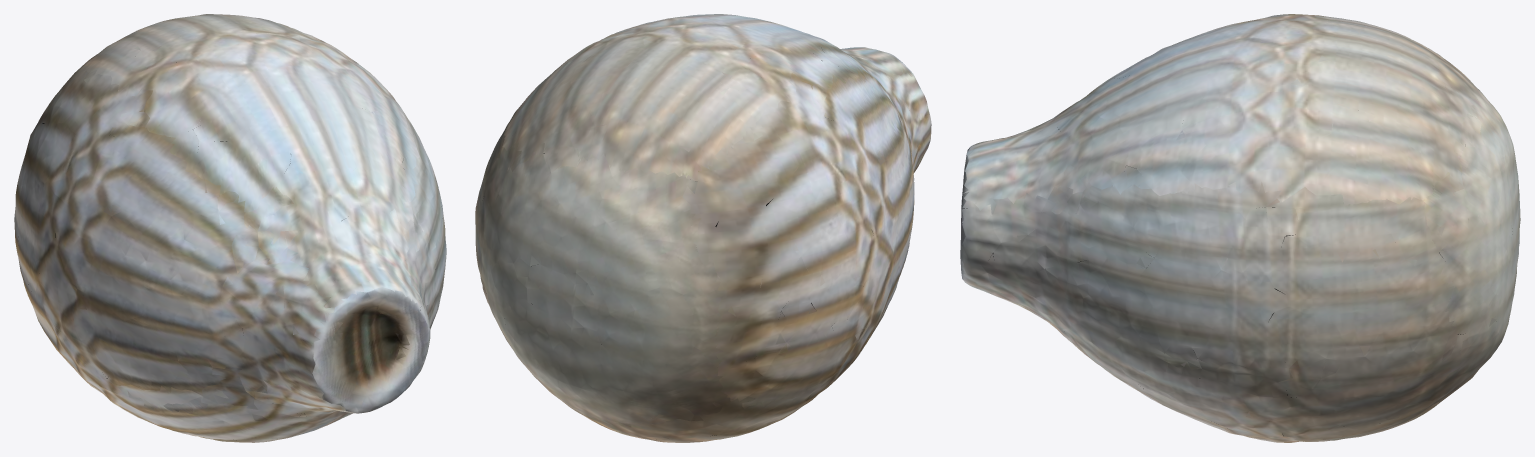
The picture shows the model from 3 angles, left to right: view 1: azimuth 30°, elevation 25°; view 2: azimuth 150°, elevation 25°; view 3: azimuth 270°, elevation 25°; orthographic projection.
Visible parts, largest first — view 1: world; view 2: world; view 3: world.
Part boxes in pixels (left/top/right/bottom): world: left=14, top=14, right=446, bottom=442; world: left=475, top=14, right=931, bottom=442; world: left=960, top=14, right=1520, bottom=442.
Size of the model in its own units: 0.764 by 0.7675 by 1.
Materials: 1 (1 with a texture image).
